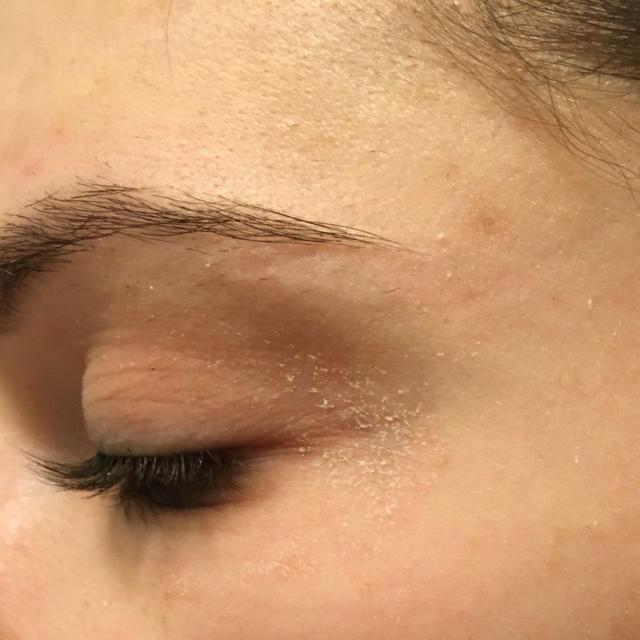Dry-Skin: (434, 180, 532, 266), (235, 49, 324, 135), (258, 536, 356, 600), (37, 129, 130, 184), (131, 39, 202, 111), (335, 371, 417, 428)
